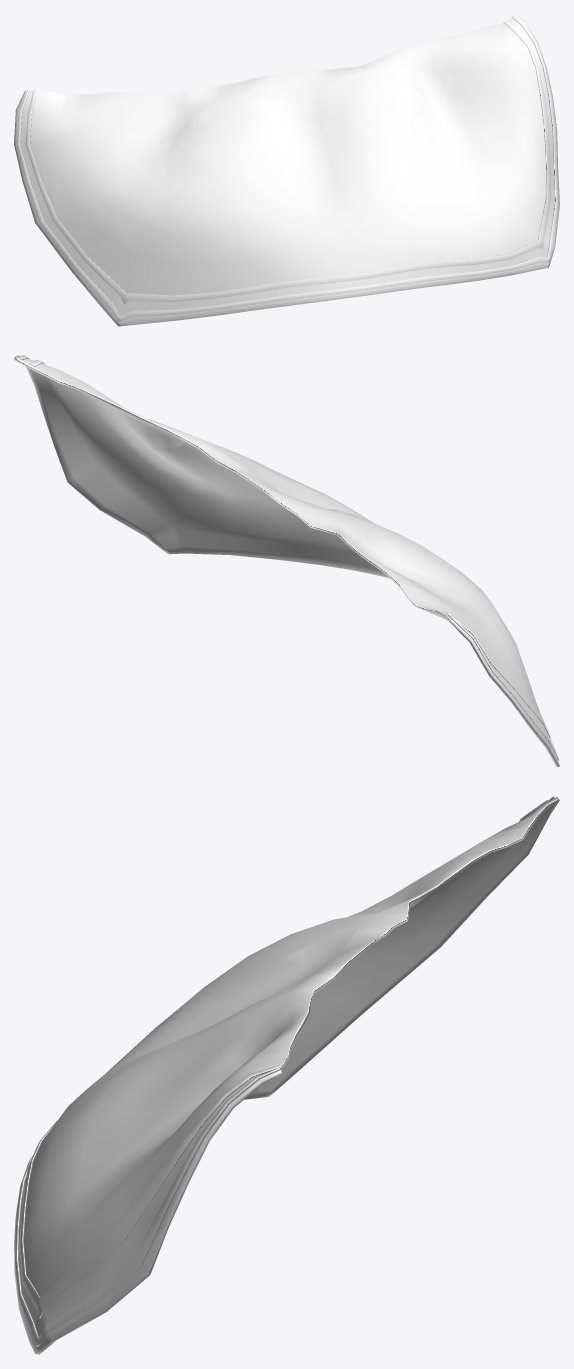
Rendered from Jac_Pocket_LEFT_V1.glb.
3 renders of one model, top to bottom at view 1: azimuth 30°, elevation 25°; view 2: azimuth 150°, elevation 25°; view 3: azimuth 270°, elevation 25°, orthographic. The views are drawn at different scales.
Parts seen in each view (by area): view 1: Jac_Pocket_LEFT_V2.001, Jac_Rope_Pocket_LEFT_V2.001; view 2: Jac_Pocket_LEFT_V2.001, Jac_Rope_Pocket_LEFT_V2.001; view 3: Jac_Pocket_LEFT_V2.001, Jac_Rope_Pocket_LEFT_V2.001.
Part boxes in pixels (bbox=[...]): Jac_Pocket_LEFT_V2.001: bbox=[14, 14, 559, 326]; Jac_Rope_Pocket_LEFT_V2.001: bbox=[16, 15, 558, 321]; Jac_Pocket_LEFT_V2.001: bbox=[14, 355, 559, 767]; Jac_Rope_Pocket_LEFT_V2.001: bbox=[18, 355, 559, 760]; Jac_Pocket_LEFT_V2.001: bbox=[14, 797, 559, 1354]; Jac_Rope_Pocket_LEFT_V2.001: bbox=[14, 796, 554, 1346].
Size of the model in its own units: 0.2008 by 0.0919 by 0.1281.
Materials: 2 (2 with a texture image).
